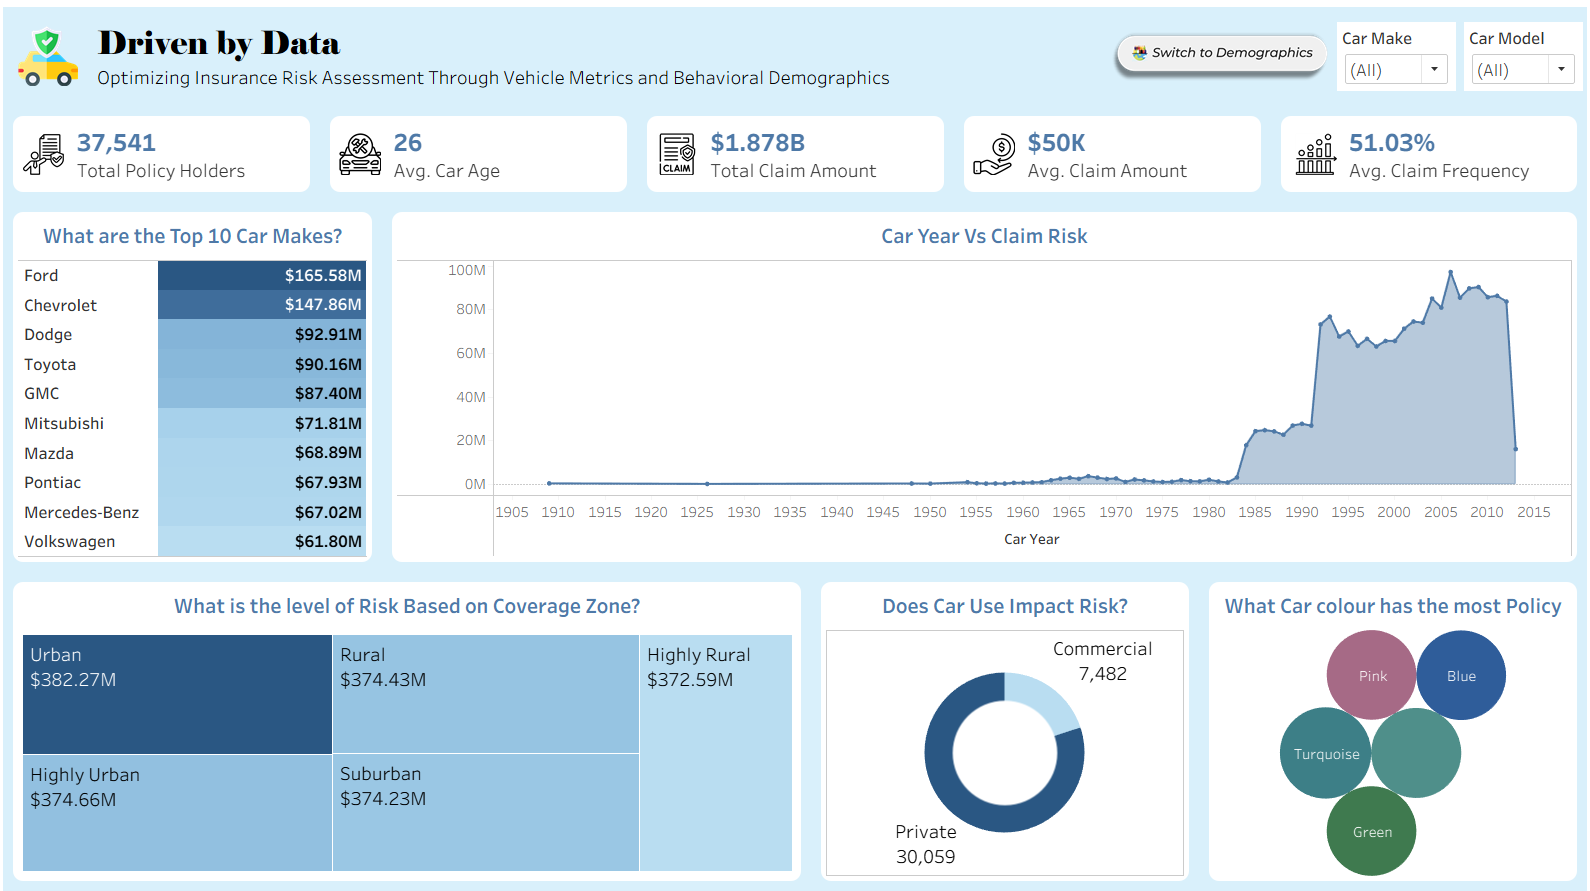

Layout of this report page (visuals, bound fields, positions):
{"tool":"tableau","page":{"name":"Asset Risk and Environmental Factors","canvas":[1600,900],"ordinal":0},"visuals":[{"type":"image","param":"Image/car-insurance.png","box":[23,23,70,89]},{"type":"text","box":[93,23,1014,89]},{"type":"dashboard-object","box":[1107,23,216,89]},{"type":"filter","title":"Does Vehicle Age Correlate with Risk?","param":"[federated.04hyo650r2rqqj174ztx61yg1vz3].[none:car_make:nk]","box":[1323,23,127,89]},{"type":"filter","title":"Does Vehicle Age Correlate with Risk?","param":"[federated.04hyo650r2rqqj174ztx61yg1vz3].[none:car_model:nk]","box":[1450,23,127,89]},{"type":"image","param":"Image/policyholders.png","box":[23,142,50,66]},{"type":"worksheet","title":"Total policy holders","mark":"Automatic","box":[73,142,237,66]},{"type":"image","param":"Image/car age.png","box":[340,142,50,66]},{"type":"worksheet","title":"Avg. Car Age","mark":"Automatic","box":[390,142,237,66]},{"type":"image","param":"Image/IMG-20260520-WA0026.jpg","box":[657,142,50,66]},{"type":"worksheet","title":"Total Claims Amount","mark":"Automatic","box":[707,142,237,66]},{"type":"image","param":"Image/refund.png","box":[974,142,50,66]},{"type":"worksheet","title":"Average Claims Amount","mark":"Automatic","box":[1024,142,237,66]},{"type":"image","param":"Image/IMG-20260520-WA0030.jpg","box":[1296,142,50,66]},{"type":"worksheet","title":"Average Claims Frequency","mark":"Automatic","box":[1346,142,226,66]},{"type":"worksheet","title":"What are the Top 10 Car Makes?","mark":"Square","rows":["car_make"],"box":[8,223,379,370]},{"type":"worksheet","title":"Does Vehicle Age Correlate with Risk?","mark":"Area","rows":["claim_amt","claim_amt"],"cols":["car_year"],"box":[387,223,1205,370]},{"type":"worksheet","title":"How Does Geography Shape Financial Exposure?","mark":"Automatic","box":[8,593,743,299]},{"type":"worksheet","title":"Commercial Vs. Private: Where lies Greater Liability?","mark":"Automatic","cols":["Calculation_1066260373028880","Calculation_1066260373041170"],"box":[751,593,421,299]},{"type":"worksheet","title":"The Palette of our Portfolio","mark":"Circle","box":[1172,593,420,299]}]}

Visuals, with their boxes in screenshot pixels (x1, y1, x2, y2), scaled from the page's 1600x900 canvas onto the 1590x891 screenshot:
image: x1=23 y1=23 x2=92 y2=111
text: x1=92 y1=23 x2=1100 y2=111
dashboard-object: x1=1100 y1=23 x2=1315 y2=111
"Does Vehicle Age Correlate with Risk?" filter: x1=1315 y1=23 x2=1441 y2=111
"Does Vehicle Age Correlate with Risk?" filter: x1=1441 y1=23 x2=1567 y2=111
image: x1=23 y1=141 x2=73 y2=206
"Total policy holders" worksheet: x1=73 y1=141 x2=308 y2=206
image: x1=338 y1=141 x2=388 y2=206
"Avg. Car Age" worksheet: x1=388 y1=141 x2=623 y2=206
image: x1=653 y1=141 x2=703 y2=206
"Total Claims Amount" worksheet: x1=703 y1=141 x2=938 y2=206
image: x1=968 y1=141 x2=1018 y2=206
"Average Claims Amount" worksheet: x1=1018 y1=141 x2=1253 y2=206
image: x1=1288 y1=141 x2=1338 y2=206
"Average Claims Frequency" worksheet: x1=1338 y1=141 x2=1562 y2=206
"What are the Top 10 Car Makes?" worksheet (Square marks): x1=8 y1=221 x2=385 y2=587
"Does Vehicle Age Correlate with Risk?" worksheet (Area marks): x1=385 y1=221 x2=1582 y2=587
"How Does Geography Shape Financial Exposure?" worksheet: x1=8 y1=587 x2=746 y2=883
"Commercial Vs. Private: Where lies Greater Liability?" worksheet: x1=746 y1=587 x2=1165 y2=883
"The Palette of our Portfolio" worksheet (Circle marks): x1=1165 y1=587 x2=1582 y2=883
